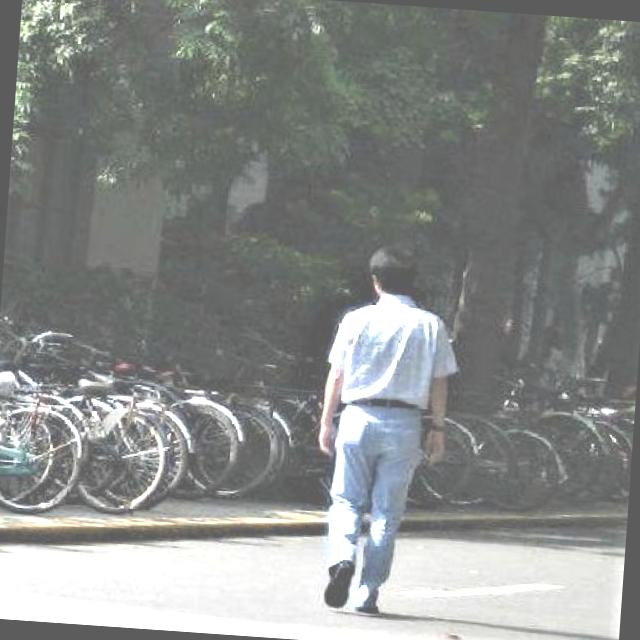Person: (294, 227, 469, 620)
